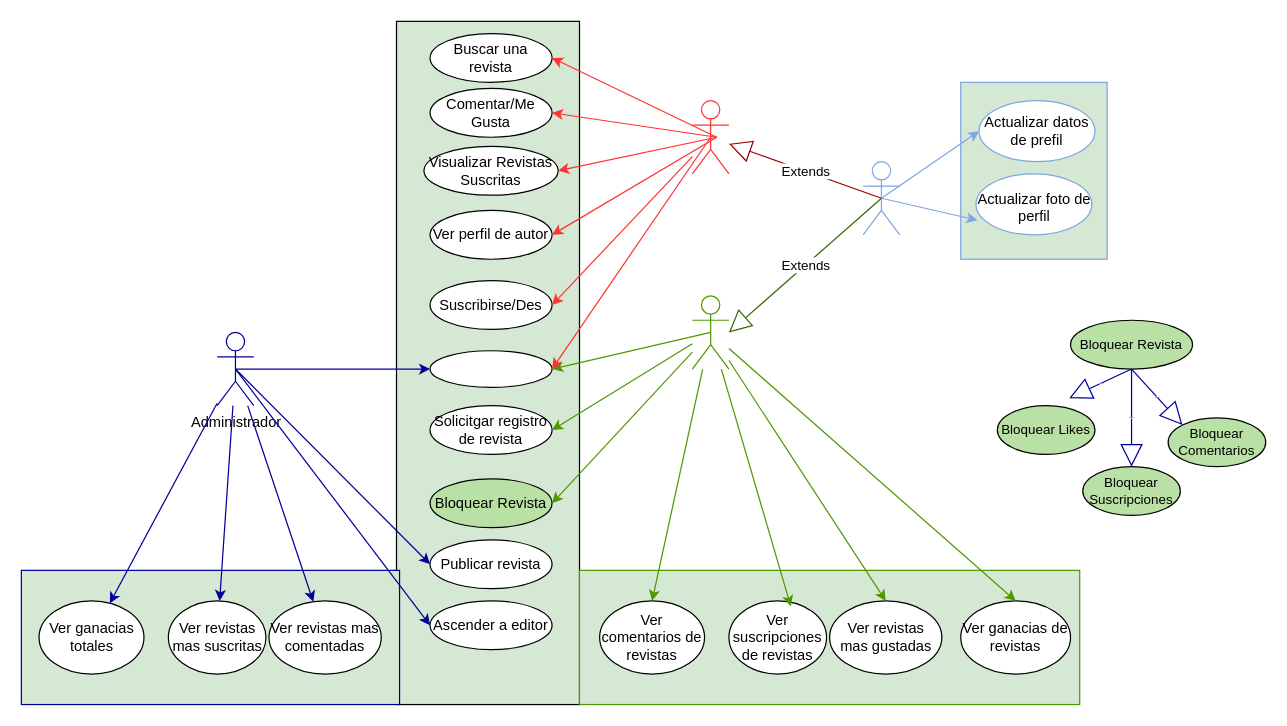
Some shapes in this 1287 by 726 pixel diagram are drawn without their labels. Here are the shapes that lost their labels. From the top down, the centre of each, then its label:
At (x=710, y=136): "Suscritor".
At (x=881, y=197): "Usuario".
At (x=710, y=332): "Editador".
At (x=490, y=368): "Login/Logout".
